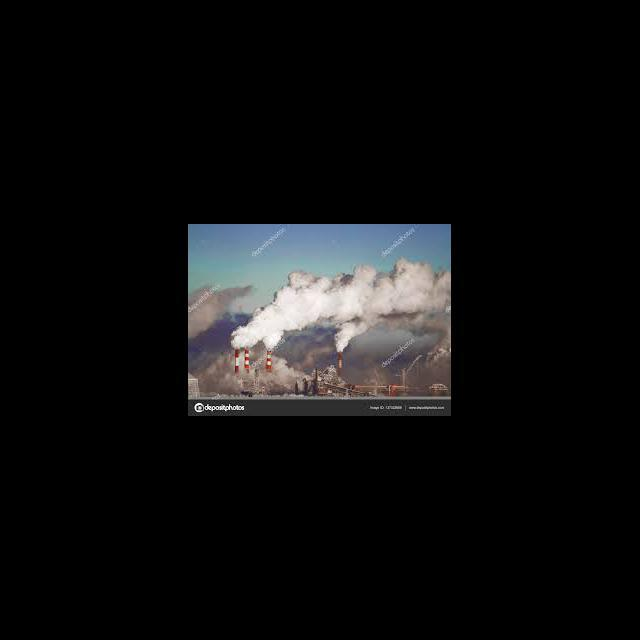Smoke: (228, 258, 450, 352)
